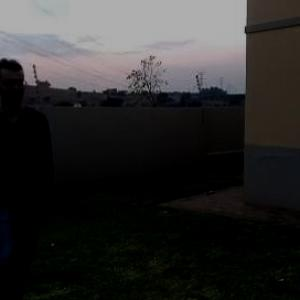follow: (1, 51, 67, 299)
